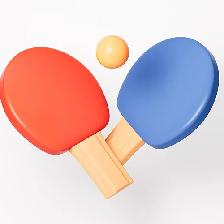YellowBall: (95, 34, 128, 68)
